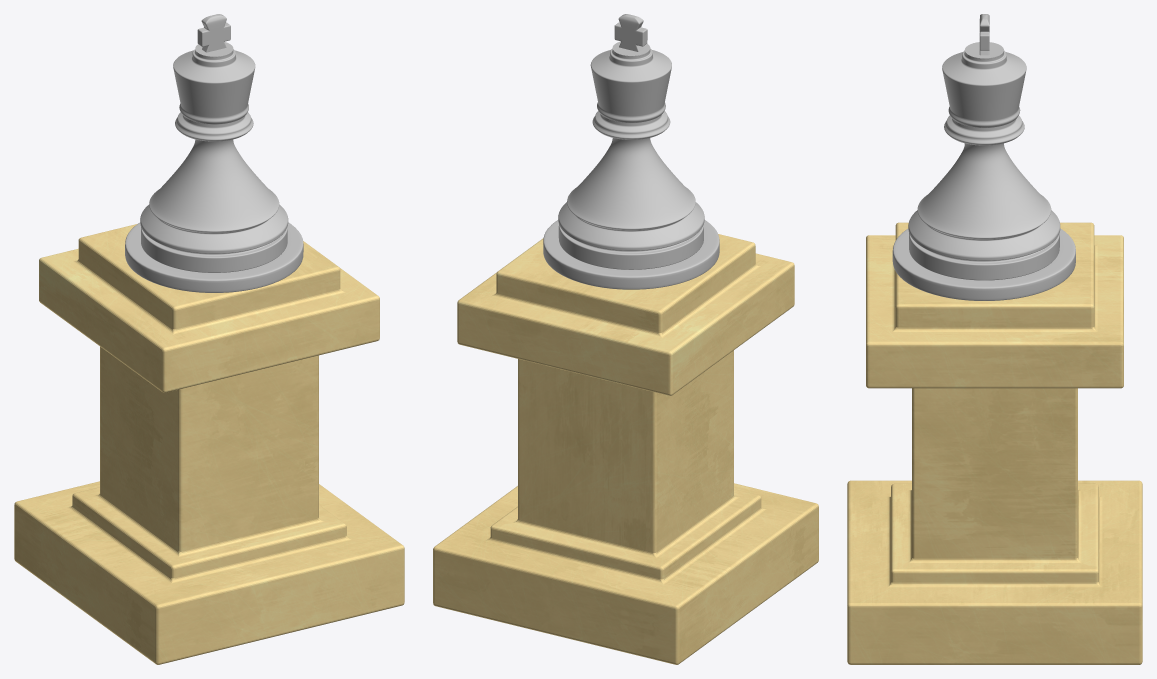
The model's file is X_STATUE_.fbx.
3 views of the same model, side by side, from view 1: azimuth 30°, elevation 25°; view 2: azimuth 150°, elevation 25°; view 3: azimuth 270°, elevation 25° (orthographic). The views are drawn at different scales.
Visible parts, largest first — view 1: X_STATUE; view 2: X_STATUE; view 3: X_STATUE.
Boxes of the visible parts, box(x1,y1,x2,y2) form: X_STATUE: box(14, 14, 404, 664); X_STATUE: box(433, 14, 818, 664); X_STATUE: box(847, 14, 1142, 664).
Bounding box in the file's own units: 180 × 395 × 180.
